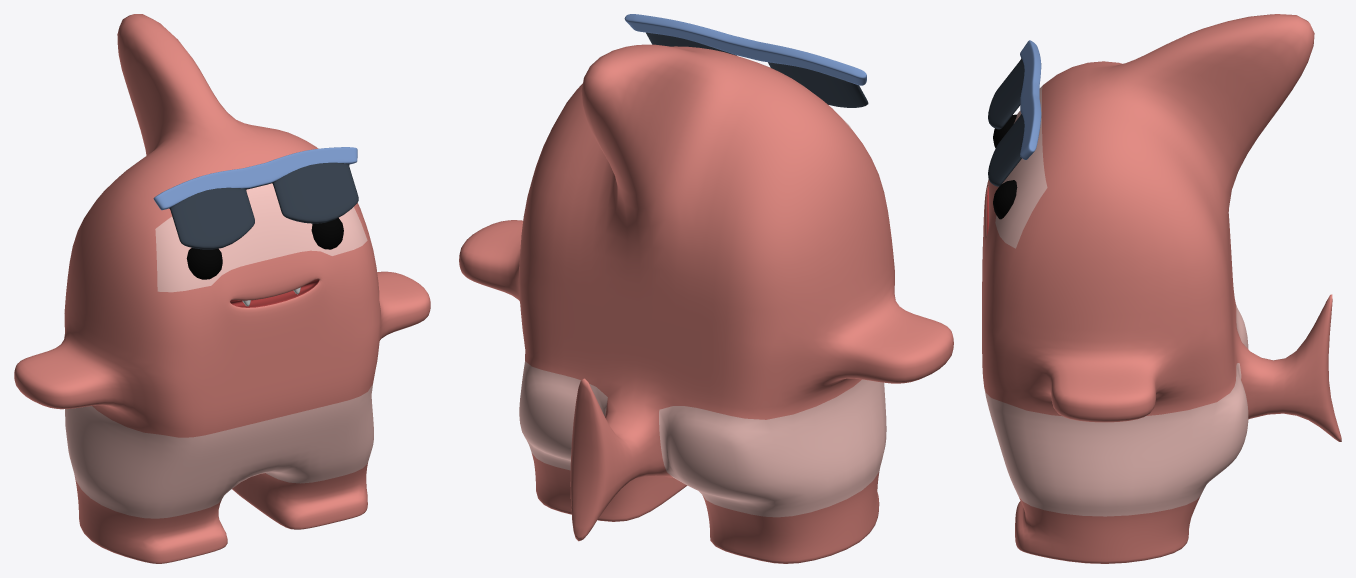
The model's file is tiburon.fbx.
The picture shows the model from 3 angles, left to right: view 1: azimuth 30°, elevation 25°; view 2: azimuth 150°, elevation 25°; view 3: azimuth 270°, elevation 25°; orthographic projection. The views are drawn at different scales.
Parts seen in each view (by area): view 1: Cube; view 2: Cube; view 3: Cube.
Part boxes in pixels (x1,y1,x2,y2): Cube: (14,14,430,563); Cube: (459,14,953,563); Cube: (982,14,1341,563).
Size of the model in its own units: 112 by 117 by 79.37.
